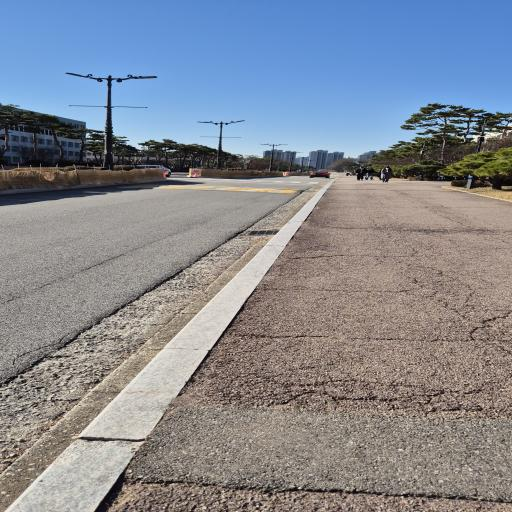drain: (248, 229, 279, 236)
